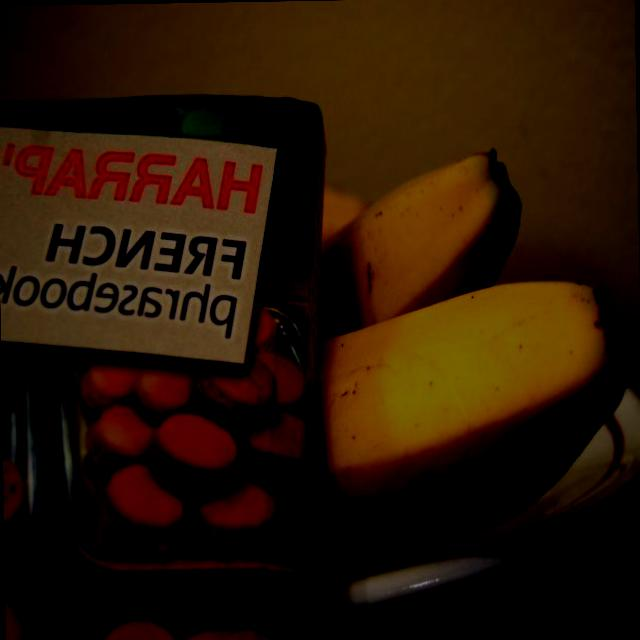Banana: (300, 140, 634, 594)
